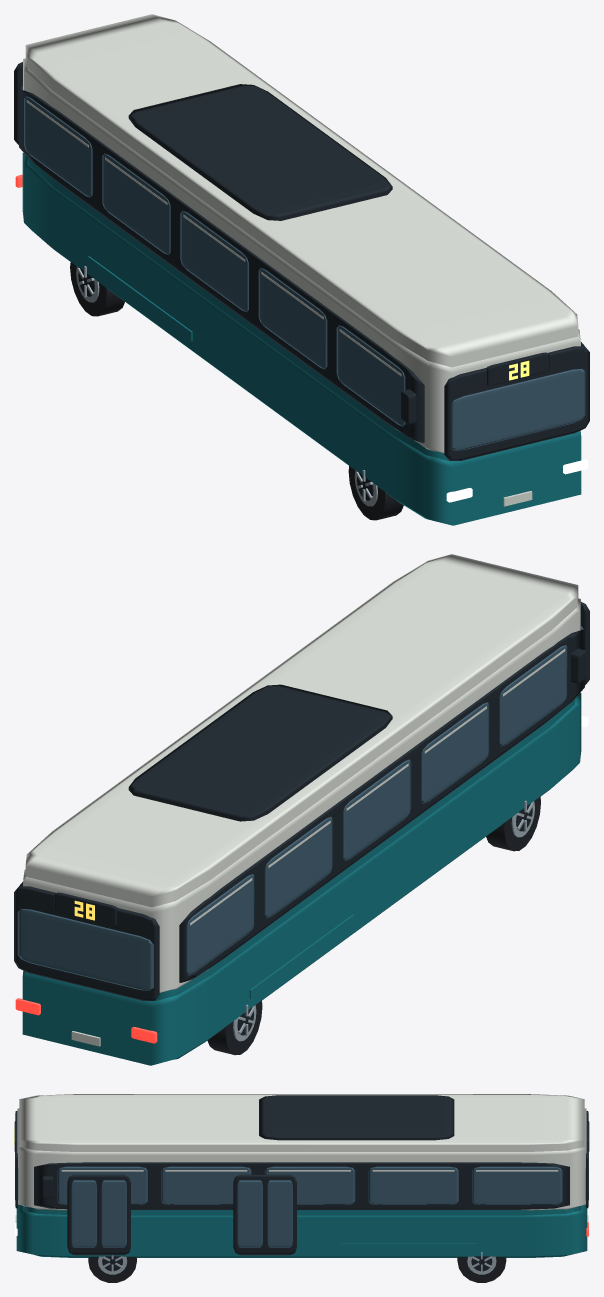
Rendered from bus.glb.
3 views of the same model, one above another, from view 1: azimuth 30°, elevation 25°; view 2: azimuth 150°, elevation 25°; view 3: azimuth 270°, elevation 25° (orthographic). The views are drawn at different scales.
Visible parts, largest first — view 1: bus, Wheel_1_L, Wheel_0_L; view 2: bus, Wheel_0_L, Wheel_1_L; view 3: bus, Wheel_0_R, Wheel_1_R.
Boxes of the visible parts, x1,y1,x2,y2 form: bus: (14,14,589,525); Wheel_1_L: (348,466,403,520); Wheel_0_L: (70,262,124,316); bus: (14,554,589,1065); Wheel_0_L: (207,1000,262,1055); Wheel_1_L: (486,796,540,851); bus: (14,1094,589,1257); Wheel_0_R: (457,1252,506,1282); Wheel_1_R: (88,1255,136,1282).
Bounding box in the file's own units: 2.74 × 3.14 × 11.56.
